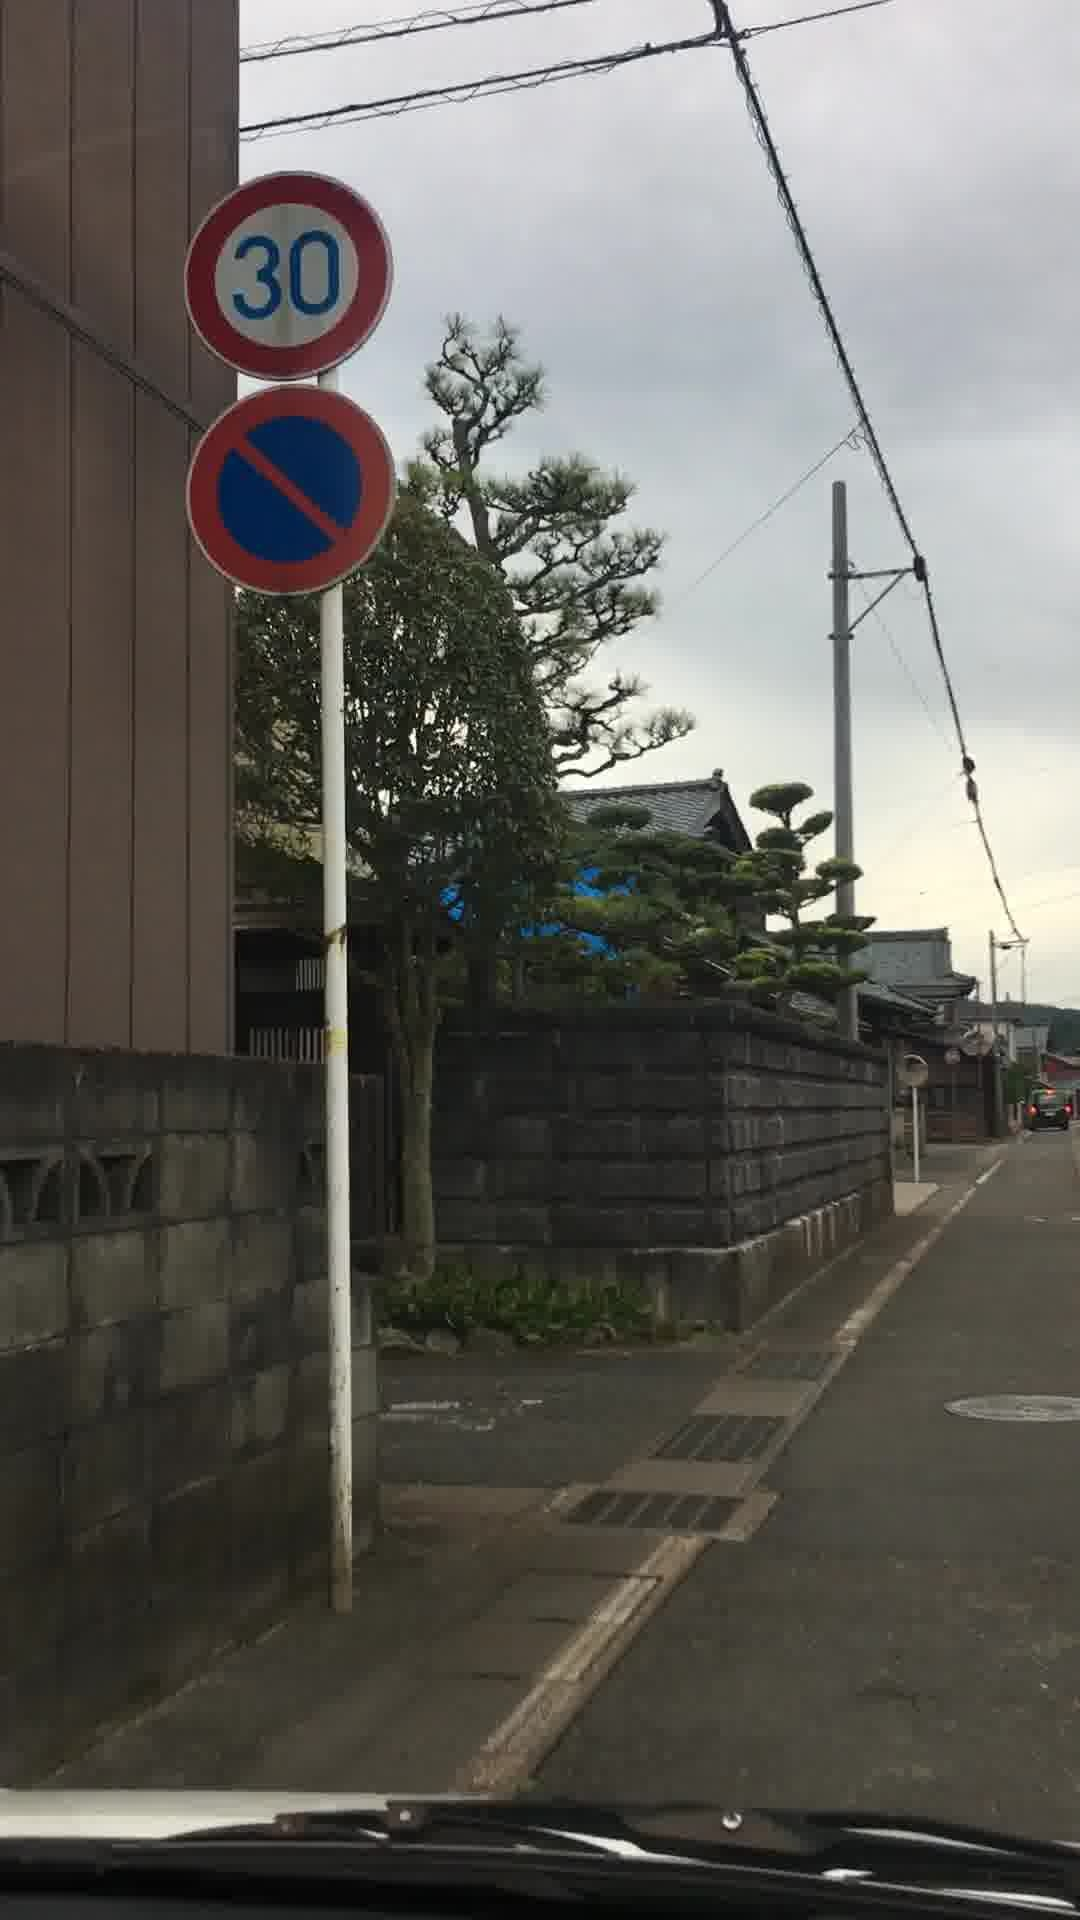Prohibition_sign: (174, 400, 415, 608)
Speed_sign: (171, 158, 415, 371)
